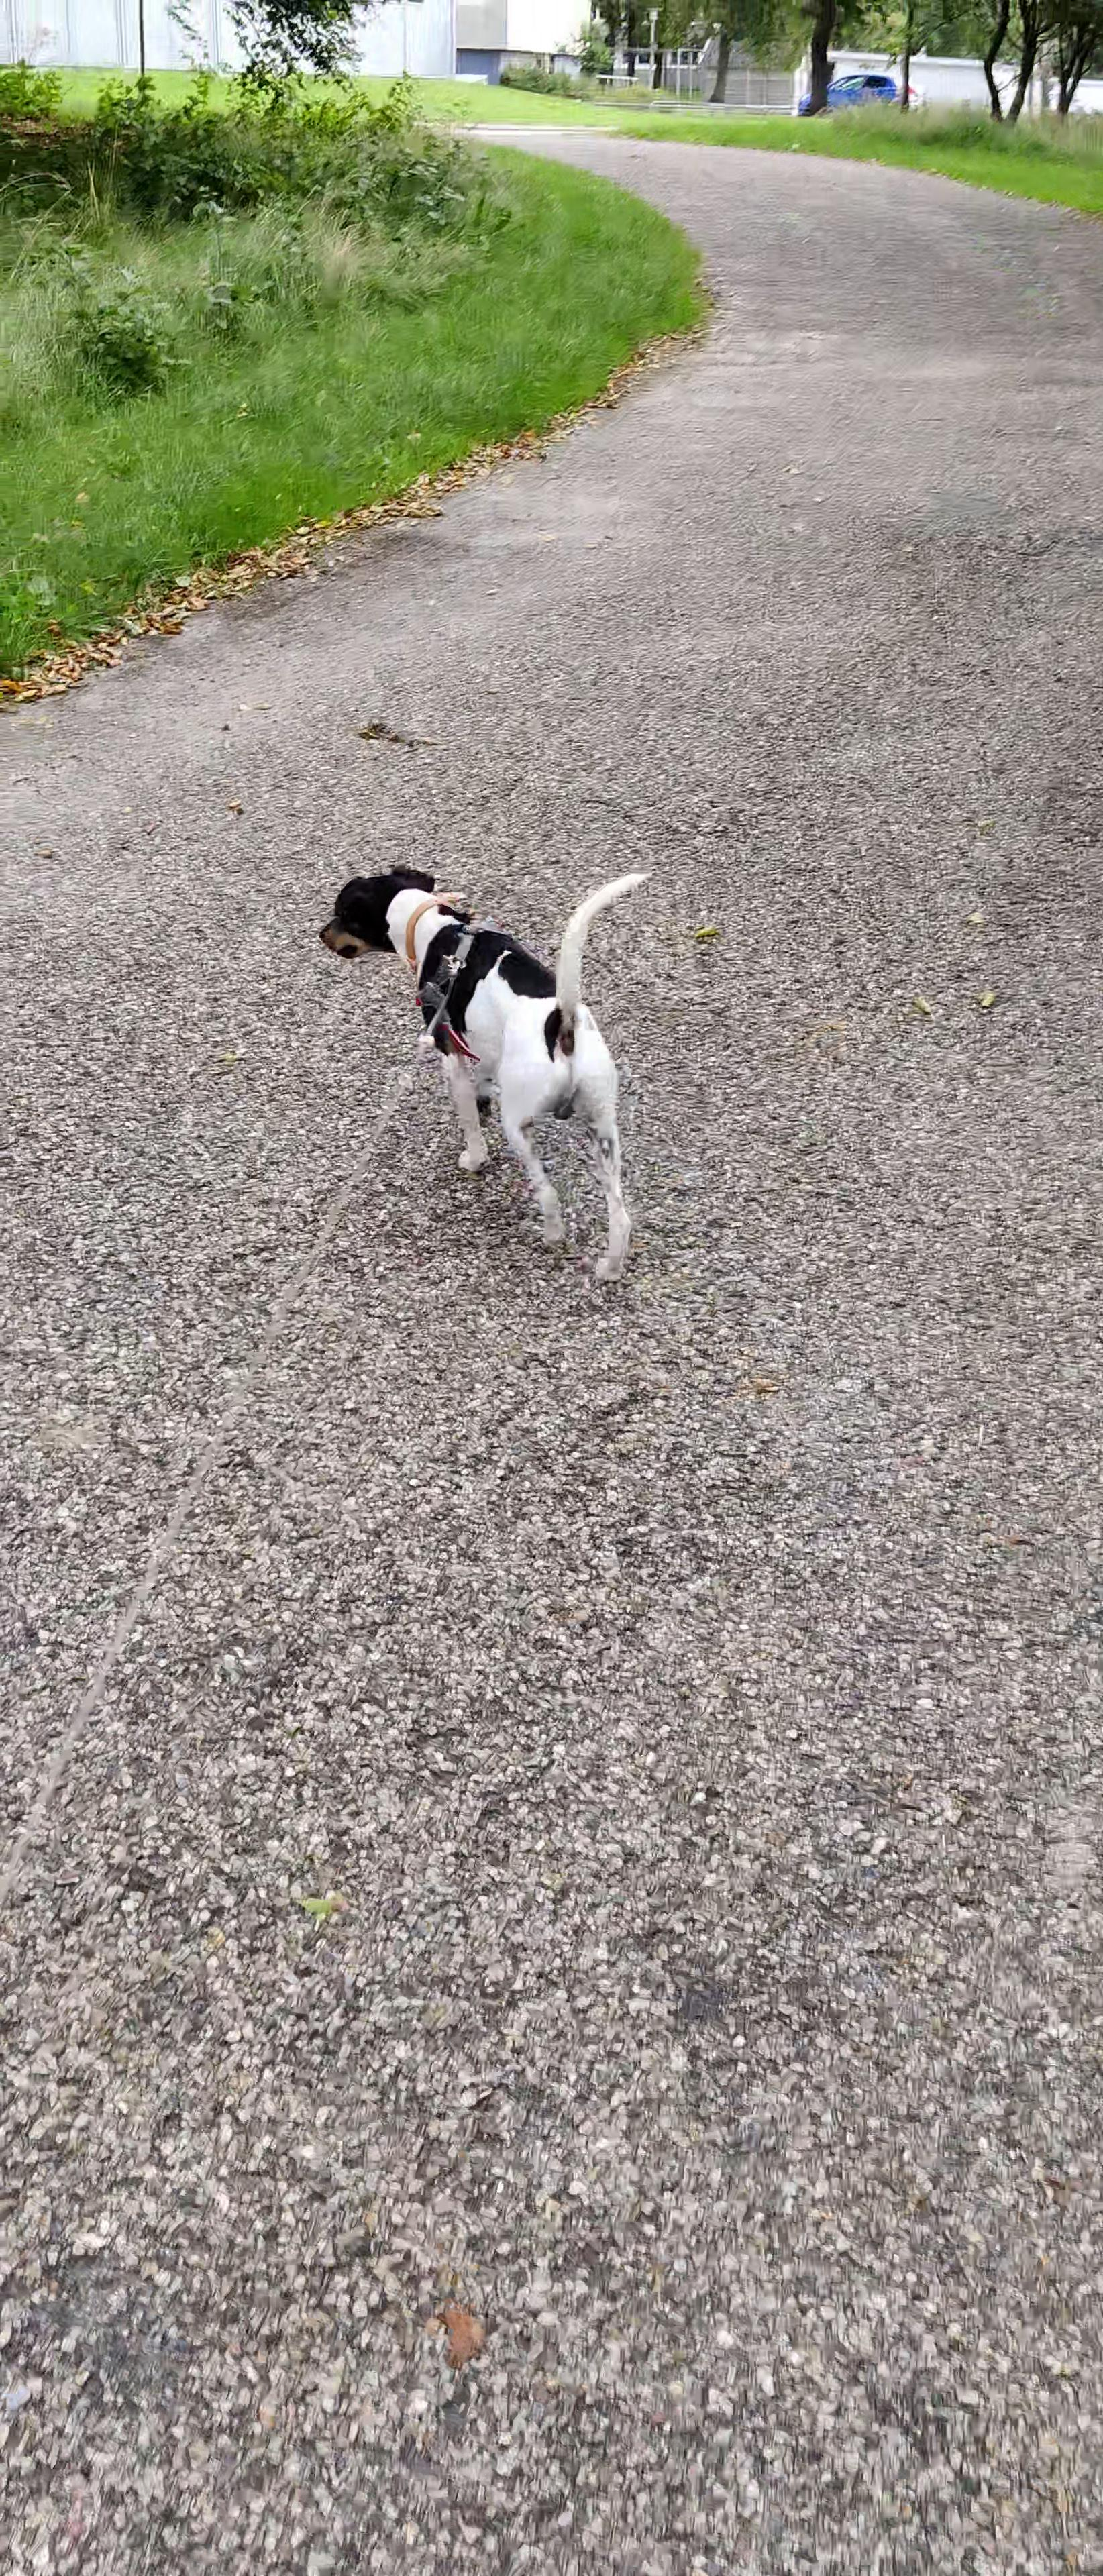Dog: (299, 831, 672, 1288)
